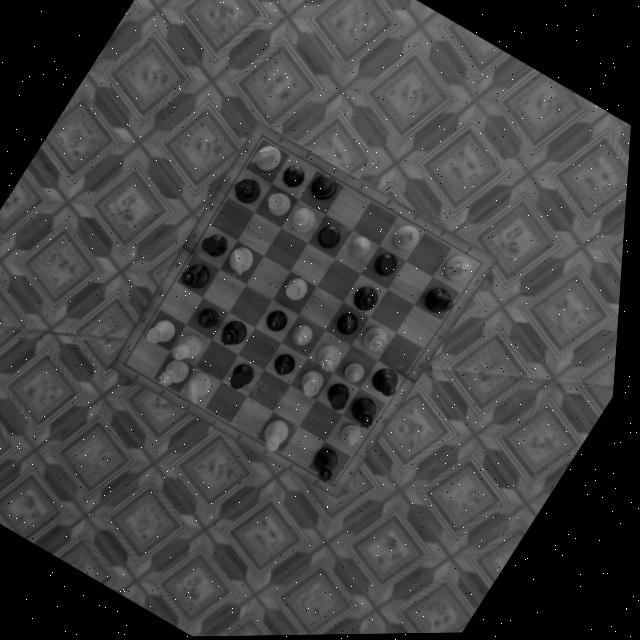chessboard: (131, 138, 485, 485)
